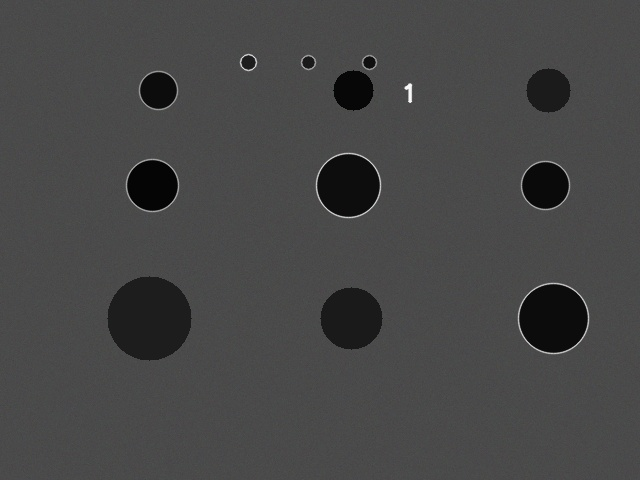hole: (107, 276, 191, 360), (518, 283, 588, 353), (316, 153, 380, 217), (320, 287, 382, 349), (126, 159, 178, 211), (521, 161, 569, 209), (526, 68, 570, 112), (333, 70, 373, 110), (139, 71, 177, 109), (240, 54, 256, 70), (301, 55, 315, 69), (362, 55, 376, 69)
